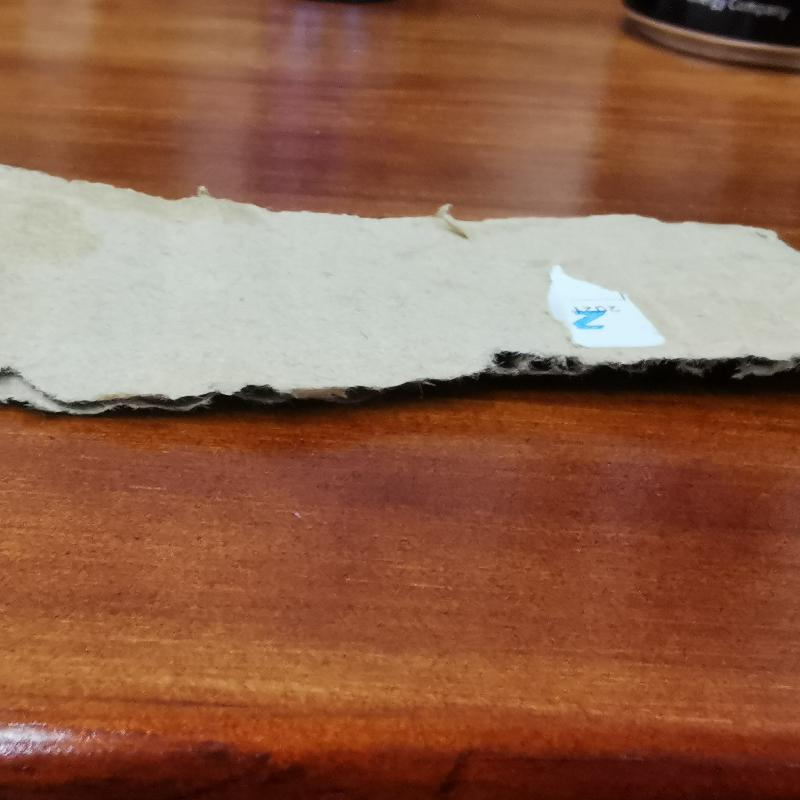boxes: (0, 152, 799, 426)
